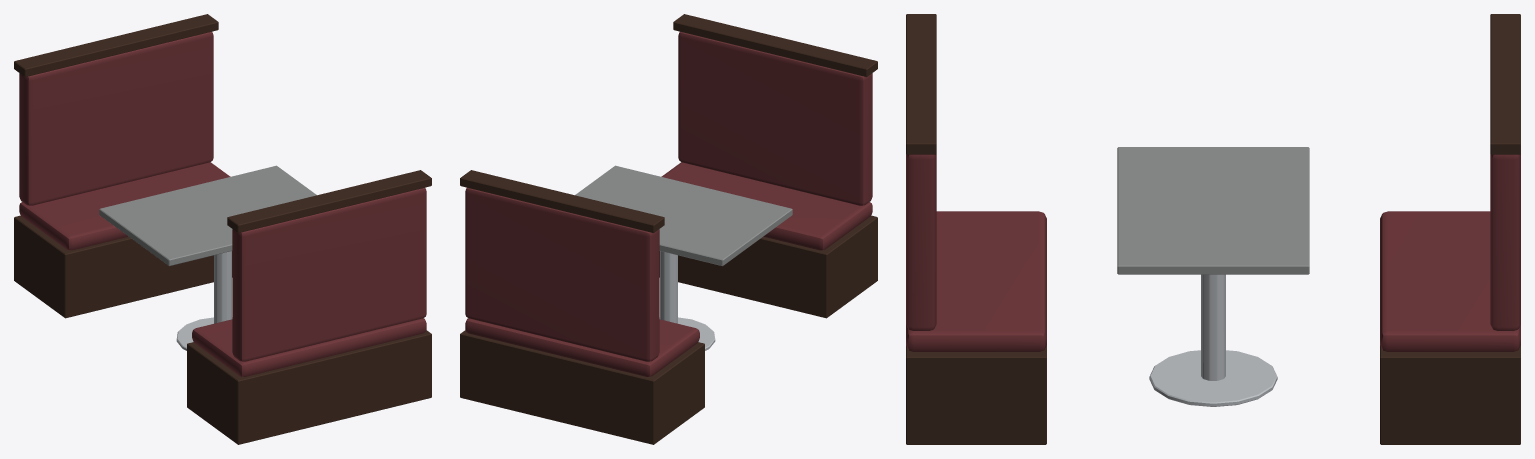
The model's file is prop_diner_booth.glb.
The picture shows the model from 3 angles, left to right: view 1: azimuth 30°, elevation 25°; view 2: azimuth 150°, elevation 25°; view 3: azimuth 270°, elevation 25°; orthographic projection. The views are drawn at different scales.
Visible parts, largest first — view 1: Body; view 2: Body; view 3: Body.
Part boxes in pixels (x1,y1,x2,y2): Body: (14,14,431,444); Body: (460,14,877,444); Body: (906,14,1520,444).
Size of what is drawn, in the model's own units: 1.2 by 1.3 by 2.4.
